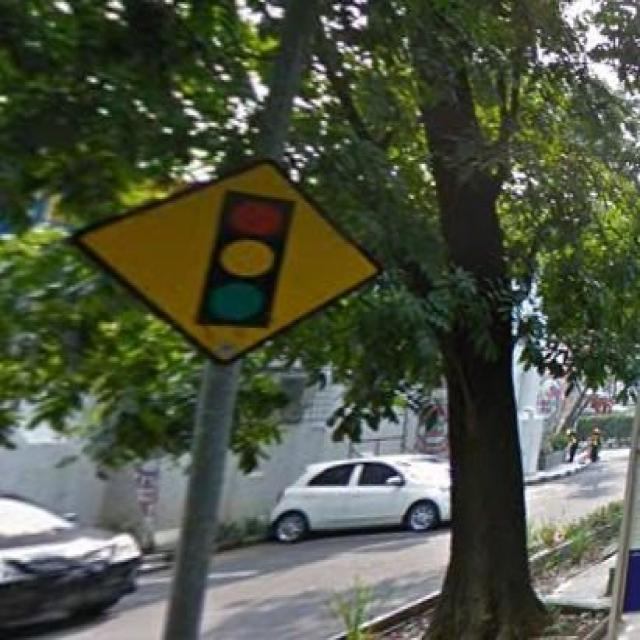traffic sign: (76, 162, 383, 361)
